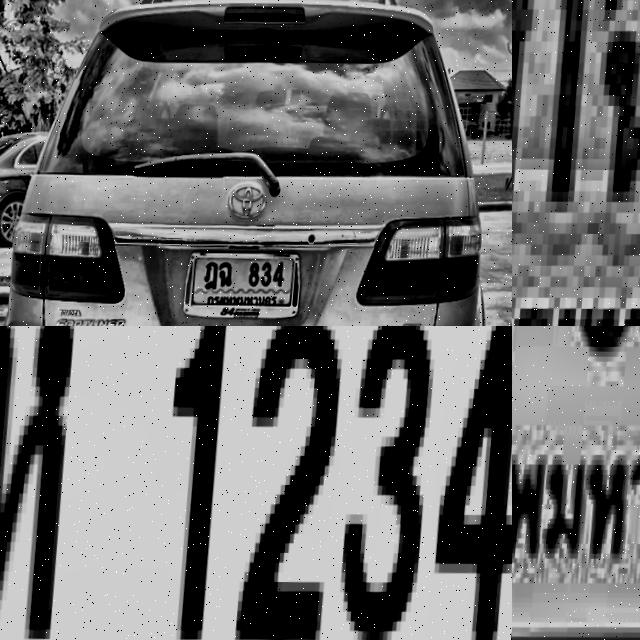license-plate: (0, 326, 512, 640), (512, 0, 640, 326), (512, 326, 640, 640), (185, 237, 313, 323)
